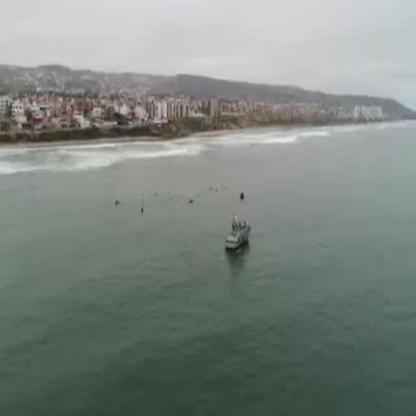Boat: (221, 219, 252, 253)
